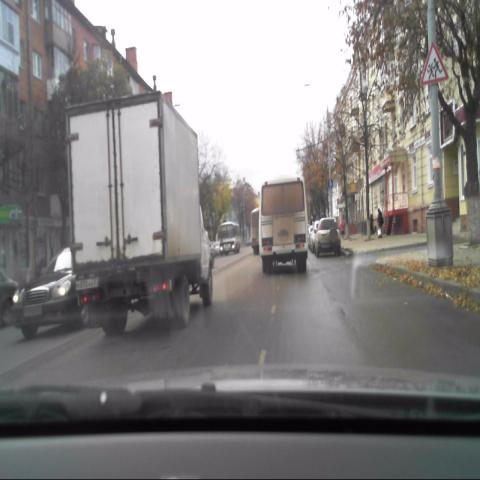1_23: (419, 40, 448, 88)
